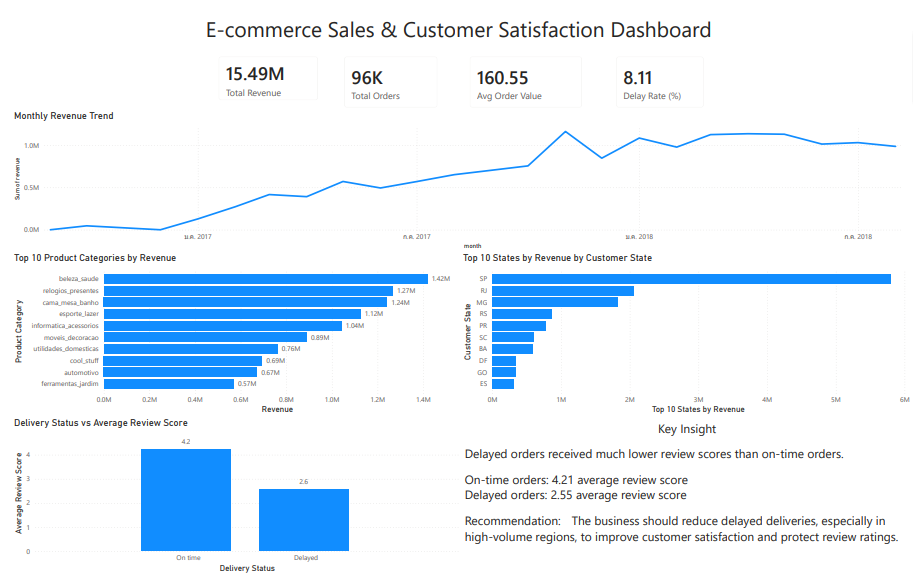

This screenshot's page, from the dashboard's own definition file:
{"tool":"powerbi","page":{"name":"Page 1","canvas":[1600,1000],"ordinal":0},"visuals":[{"type":"cardVisual","fields":{"Data":["Sum(kpi_summary_export.total_revenue)"]},"box":[351.4,62.9,210,111.4],"z":0},{"type":"cardVisual","fields":{"Data":["Sum(kpi_summary_export.total_orders)"]},"box":[574.3,62.9,198.6,124.3],"z":1000},{"type":"cardVisual","fields":{"Data":["Sum(kpi_summary_export.delay_rate)"]},"box":[1057.1,62.9,188.6,124.3],"z":2000},{"type":"cardVisual","fields":{"Data":["Sum(kpi_summary_export.avg_order_value)"]},"box":[797.1,62.9,232.9,124.3],"z":3000},{"type":"lineChart","title":"Monthly Revenue Trend","fields":{"Y":["Sum(monthly_sales_export.revenue)"],"Category":["monthly_sales_export.month"]},"box":[0,174.3,1600,251.4],"z":4000},{"type":"clusteredBarChart","title":"Top 10 Product Categories by Revenue","fields":{"Category":["top_categories_export.product_category_name"],"Y":["Sum(top_categories_export.revenue)"]},"box":[0,425.7,800,292.9],"z":5000},{"type":"clusteredColumnChart","title":"Delivery Status vs Average Review Score","fields":{"Category":["delivery_review_export.delivery_status"],"Y":["Sum(delivery_review_export.avg_review_score)"]},"box":[0,718.6,800,281.4],"z":7000},{"type":"textbox","box":[800,718.6,800,281.4],"z":8000},{"type":"textbox","box":[340,0,918.6,62.9],"z":9000},{"type":"clusteredBarChart","fields":{"Category":["top10_states_export.customer_state"],"Y":["Sum(top10_states_export.revenue)"]},"box":[797.1,425.7,802.9,292.9],"z":9001}]}

Visuals, with their boxes in screenshot pixels (x1, y1, x2, y2), scaled from the page's 1600x1000 canvas onto the 924x587 screenshot:
cardVisual - Sum(kpi_summary_export.total_revenue): 203, 37, 324, 102
cardVisual - Sum(kpi_summary_export.total_orders): 332, 37, 446, 110
cardVisual - Sum(kpi_summary_export.delay_rate): 610, 37, 719, 110
cardVisual - Sum(kpi_summary_export.avg_order_value): 460, 37, 595, 110
"Monthly Revenue Trend" lineChart: 0, 102, 923, 250
"Top 10 Product Categories by Revenue" clusteredBarChart: 0, 250, 462, 422
"Delivery Status vs Average Review Score" clusteredColumnChart: 0, 422, 462, 586
textbox: 462, 422, 923, 586
textbox: 196, 0, 727, 37
clusteredBarChart - top10_states_export.customer_state x Sum(top10_states_export.revenue): 460, 250, 923, 422
